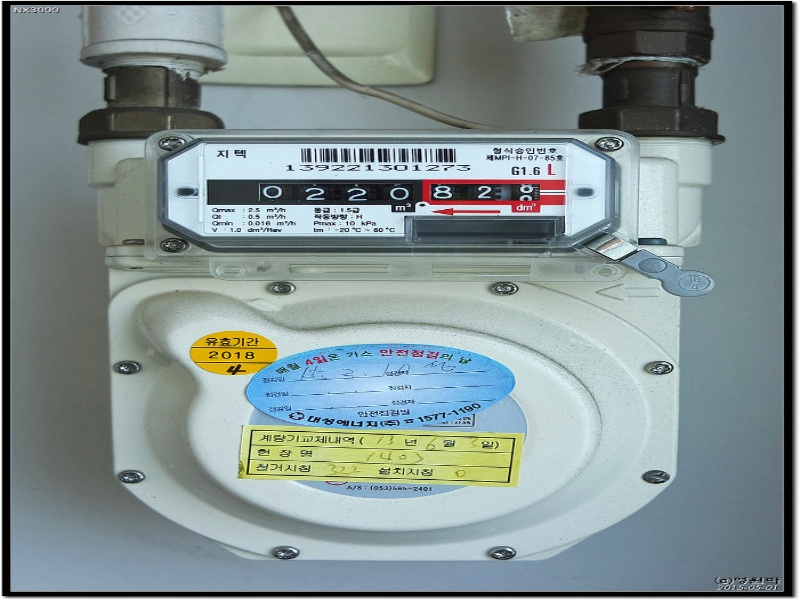meter: (146, 126, 645, 258)
